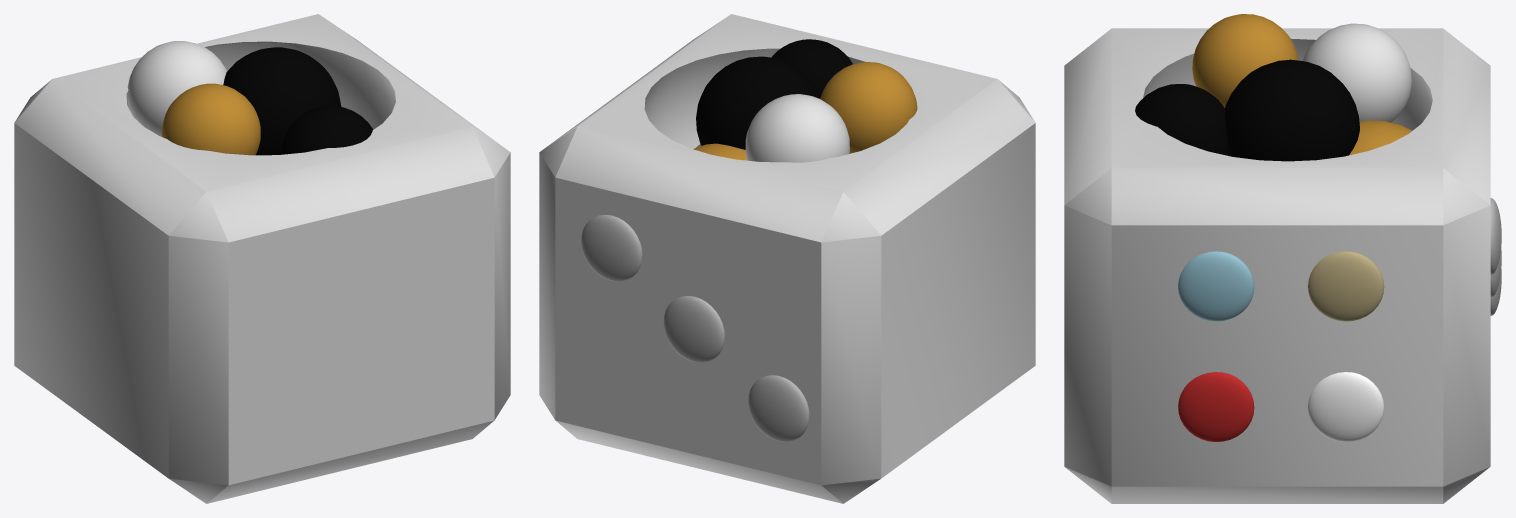
3 renders of one model, left to right at view 1: azimuth 30°, elevation 25°; view 2: azimuth 150°, elevation 25°; view 3: azimuth 270°, elevation 25°, orthographic. The views are drawn at different scales.
Visible parts, largest first — view 1: ChamferBox, Sphere740, Sphere744, Sphere742, Sphere741; view 2: ChamferBox, Sphere740, Sphere742, Sphere744, Sphere718, Sphere720, Sphere719, Sphere741, Sphere735; view 3: ChamferBox, Sphere740, Sphere742, Sphere744, Sphere741, Sphere722, Sphere721, Sphere724, Sphere723, Sphere735, Sphere718.
Part boxes in pixels (x1,y1,x2,y2): ChamferBox: (14,14,510,503); Sphere740: (223,47,341,155); Sphere744: (162,83,260,155); Sphere742: (127,41,226,136); Sphere741: (281,106,373,154); ChamferBox: (539,14,1035,503); Sphere740: (696,56,820,149); Sphere742: (745,94,849,162); Sphere744: (820,62,917,153); Sphere718: (581,214,642,281); Sphere720: (748,375,809,441); Sphere719: (663,296,724,362); Sphere741: (771,39,852,97); Sphere735: (693,143,747,160); ChamferBox: (1064,28,1490,503); Sphere740: (1225,59,1359,161); Sphere742: (1303,23,1411,122); Sphere744: (1192,14,1298,107); Sphere741: (1135,84,1228,155); Sphere722: (1308,251,1384,321); Sphere721: (1178,251,1254,321); Sphere724: (1178,372,1254,441); Sphere723: (1308,372,1384,441); Sphere735: (1349,120,1412,155); Sphere718: (1490,198,1501,274).
Bounding box in the file's own units: 0.9963 × 0.9608 × 1.
